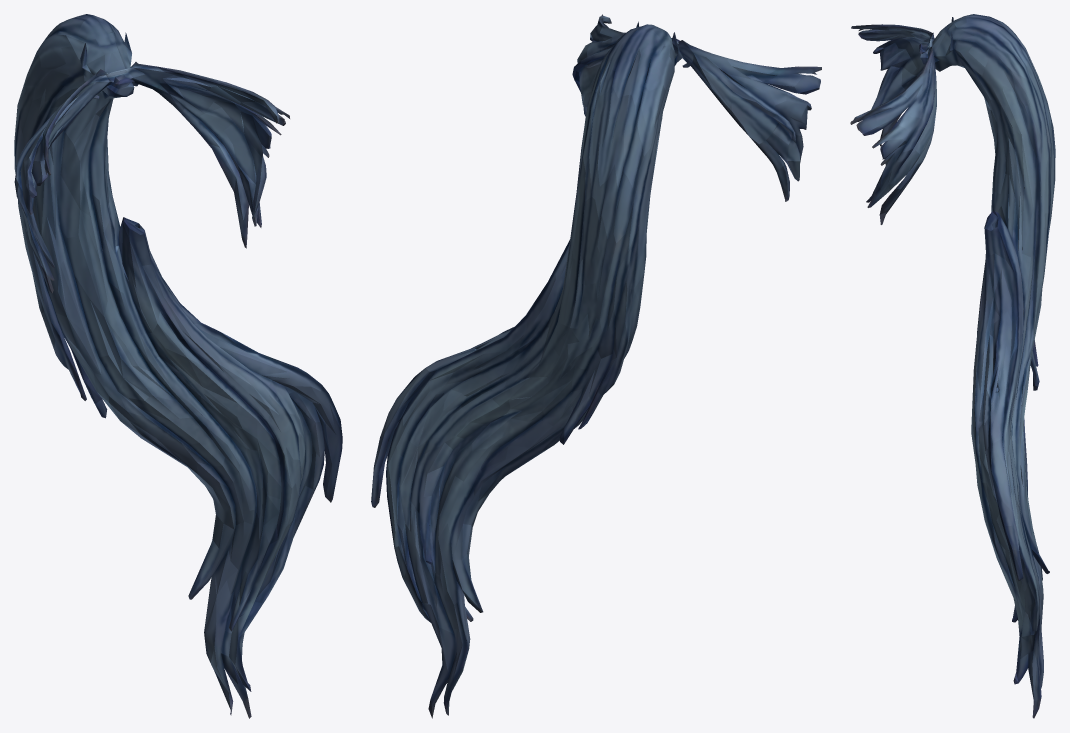
File: nerith_m-meche-4-queue-de-cote.glb
3 renders of one model, left to right at view 1: azimuth 30°, elevation 25°; view 2: azimuth 150°, elevation 25°; view 3: azimuth 270°, elevation 25°, orthographic. The views are drawn at different scales.
Visible parts, largest first — view 1: geometry_0; view 2: geometry_0; view 3: geometry_0.
Boxes of the visible parts, <box> form: geometry_0: <box>14,14,342,718</box>; geometry_0: <box>371,14,821,718</box>; geometry_0: <box>850,14,1055,718</box>.
Bounding box in the file's own units: 1.02 × 1.9 × 0.5655.
Materials: 1 (1 with a texture image).
